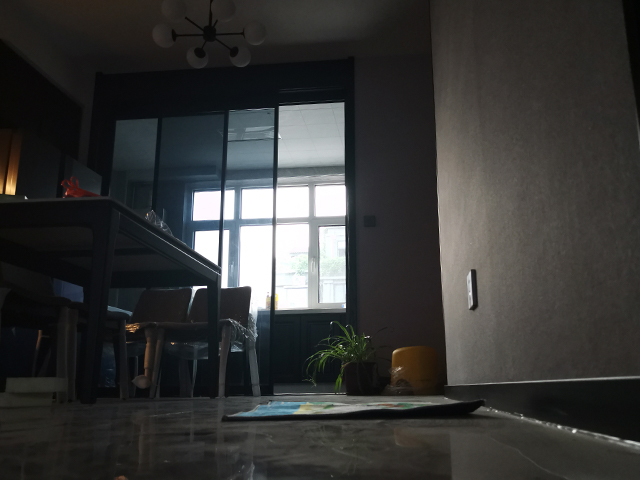cabinet: (268, 308, 349, 392)
carpet: (219, 392, 484, 424)
stool: (1, 259, 134, 407), (121, 284, 262, 403), (387, 343, 446, 398)
table: (1, 194, 223, 407)
